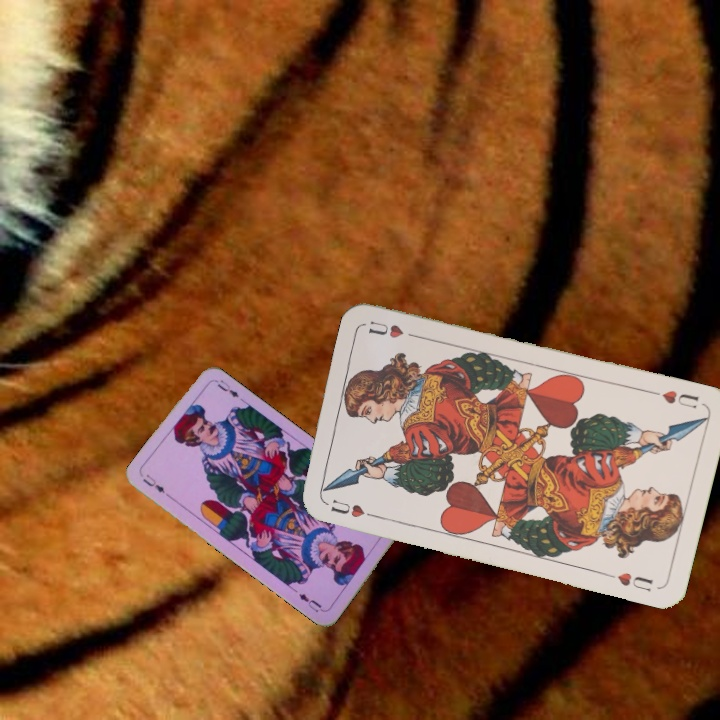EU: (139, 470, 168, 496)
HU: (647, 386, 702, 411), (327, 496, 379, 521)
